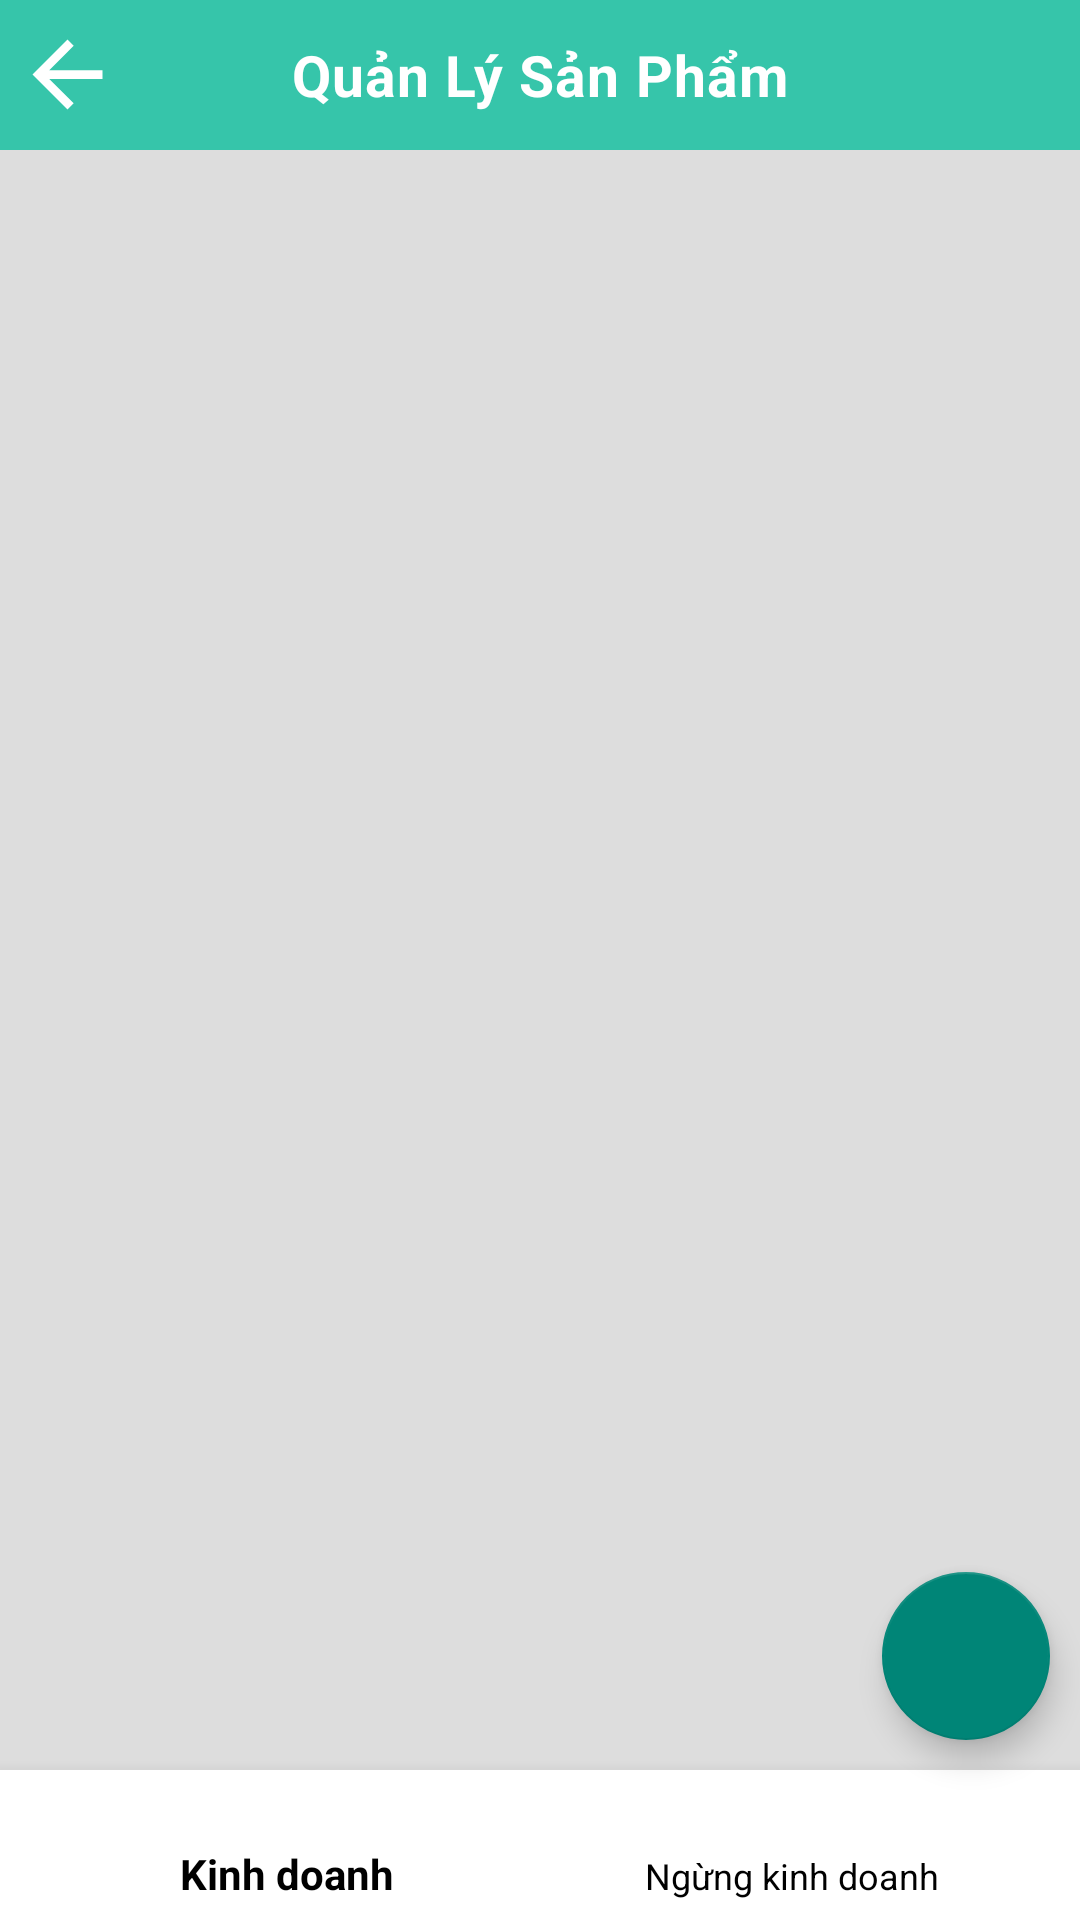

Named icons in this screenshot (1080 × 1920) and their bounding boxes, bbox=(x1, y1, x2, y2):
back: bbox=(32, 39, 103, 110)
